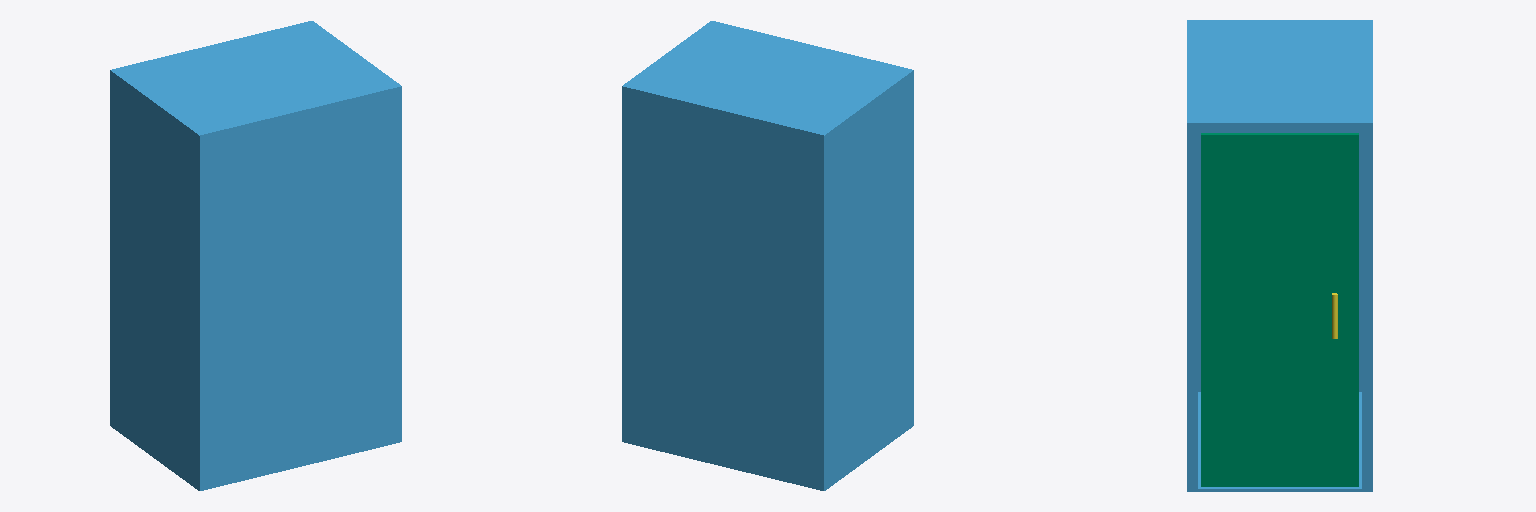
robot.urdf — my_cabinet:
<?xml version="1.0" ?>
<robot name="my_cabinet">
	<link name="world"/>
	<joint name="virtual_joint" type="fixed">
		<parent link="world"/>
		<child link="base_cabinet_link"/>
		<origin xyz="0.0 0.0 0.0" rpy="0.0 0.0 0.0"/>
	</joint>
	<link name="base_cabinet_link">
		<visual>
			<origin xyz="0.0 0.0 -0.3267971206710246" rpy="0.0 0.0 0.0"/>
			<geometry>
				<box size="0.4 0.30681748888788357 0.004"/>
			</geometry>
		</visual>
		<collision name="base_cabinet_link_collision_0">
			<origin xyz="0.0 0.0 -0.3267971206710246" rpy="0.0 0.0 0.0"/>
			<geometry>
				<box size="0.4 0.30681748888788357 0.004"/>
			</geometry>
		</collision>
		<visual>
			<origin xyz="0.0 0.14440874444394178 0.007" rpy="0.0 0.0 0.0"/>
			<geometry>
				<box size="0.4 0.018 0.6715942413420493"/>
			</geometry>
		</visual>
		<collision name="base_cabinet_link_collision_1">
			<origin xyz="0.0 0.14440874444394178 0.007" rpy="0.0 0.0 0.0"/>
			<geometry>
				<box size="0.4 0.018 0.6715942413420493"/>
			</geometry>
		</collision>
		<visual>
			<origin xyz="0.0 -0.14440874444394178 0.007" rpy="0.0 0.0 0.0"/>
			<geometry>
				<box size="0.4 0.018 0.6715942413420493"/>
			</geometry>
		</visual>
		<collision name="base_cabinet_link_collision_2">
			<origin xyz="0.0 -0.14440874444394178 0.007" rpy="0.0 0.0 0.0"/>
			<geometry>
				<box size="0.4 0.018 0.6715942413420493"/>
			</geometry>
		</collision>
		<visual>
			<origin xyz="0.0 0.0 0.3337971206710246" rpy="0.0 0.0 0.0"/>
			<geometry>
				<box size="0.4 0.30681748888788357 0.018"/>
			</geometry>
		</visual>
		<collision name="base_cabinet_link_collision_3">
			<origin xyz="0.0 0.0 0.3337971206710246" rpy="0.0 0.0 0.0"/>
			<geometry>
				<box size="0.4 0.30681748888788357 0.018"/>
			</geometry>
		</collision>
		<visual>
			<origin xyz="-0.191 0.0 0.007" rpy="0.0 0.0 0.0"/>
			<geometry>
				<box size="0.018 0.30681748888788357 0.6715942413420493"/>
			</geometry>
		</visual>
		<collision name="base_cabinet_link_collision_4">
			<origin xyz="-0.191 0.0 0.007" rpy="0.0 0.0 0.0"/>
			<geometry>
				<box size="0.018 0.30681748888788357 0.6715942413420493"/>
			</geometry>
		</collision>
		<inertial>
			<mass value="0.200000"/>
			<inertia ixx="0.009086" ixy="0.0" ixz="0.0" iyy="0.010184" iyz="0.0" izz="0.004236"/>
		</inertial>
	</link>
	<link name="door_link">
		<visual>
			<origin xyz="0.0 -0.1204087444439418 0.0"/>
			<geometry>
				<box size="0.018 0.2608174888878836 0.6395942413420492"/>
			</geometry>
		</visual>
		<collision name="door_link_collision">
			<origin xyz="0.0 -0.1204087444439418 0.0"/>
			<geometry>
				<box size="0.018 0.2608174888878836 0.6395942413420492"/>
			</geometry>
		</collision>
		<inertial>
			<mass value="0.200000"/>
			<inertia ixx="0.007952" ixy="0.0" ixz="0.0" iyy="0.006823" iyz="0.0" izz="0.001139"/>
		</inertial>
	</link>
	<joint name="door_joint" type="revolute">
		<origin xyz="0.191 -0.1204087444439418 0.0" rpy="0.000000 -0.000000 3.141593"/>
		<axis xyz="0 0 1"/>
		<parent link="base_cabinet_link"/>
		<child link="door_link"/>
		<limit effort="50" lower="0" upper="-1.5707963267948966" velocity="10"/>
		<dynamics friction="1.0"/>
	</joint>
	<link name="handle_link">
		<visual>
			<origin xyz="0.0 0.0 0.0" rpy="0.0 0.0 0.0"/>
			<geometry>
				<cylinder length="0.08" radius="0.005"/>
			</geometry>
		</visual>
		<collision name="handle_link_collision_0">
			<origin xyz="0.0 0.0 0.0" rpy="0.0 0.0 0.0"/>
			<geometry>
				<cylinder length="0.08" radius="0.005"/>
			</geometry>
		</collision>
		<visual>
			<origin xyz="-0.01 0.0 0.02" rpy="0.0 1.5707963267948966 0.0"/>
			<geometry>
				<cylinder length="0.02" radius="0.003"/>
			</geometry>
		</visual>
		<collision name="handle_link_collision_1">
			<origin xyz="-0.01 0.0 0.02" rpy="0.0 1.5707963267948966 0.0"/>
			<geometry>
				<cylinder length="0.01" radius="0.003"/>
			</geometry>
		</collision>
		<visual>
			<origin xyz="-0.01 0.0 -0.02" rpy="0.0 1.5707963267948966 0.0"/>
			<geometry>
				<cylinder length="0.02" radius="0.003"/>
			</geometry>
		</visual>
		<collision name="handle_link_collision_2">
			<origin xyz="-0.01 0.0 -0.02" rpy="0.0 1.5707963267948966 0.0"/>
			<geometry>
				<cylinder length="0.02" radius="0.003"/>
			</geometry>
		</collision>
		<inertial>
			<mass value="0.050000"/>
			<inertia ixx="0.000027" ixy="0.0" ixz="0.0" iyy="0.000029" iyz="0.0" izz="0.000003"/>
		</inertial>
	</link>
	<joint name="handle_joint" type="fixed">
		<origin xyz="-0.028999999999999998 -0.2108174888878836 0.0" rpy="0.000000 -0.000000 3.141593"/>
		<parent link="door_link"/>
		<child link="handle_link"/>
	</joint>
	<gazebo reference="base_cabinet_link">
		<sensor name="main_sensor" type="contact">
			<selfCollide>true</selfCollide>
			<alwaysOn>true</alwaysOn>
			<updateRate>5.0</updateRate>
			<material>Gazebo/Red</material>
			<contact>
				<collision>base_cabinet_link_collision_0_collision</collision>
				<collision>base_cabinet_link_collision_1_collision</collision>
				<collision>base_cabinet_link_collision_2_collision</collision>
				<collision>base_cabinet_link_collision_3_collision</collision>
				<collision>base_cabinet_link_collision_4_collision</collision>
			</contact>
			<plugin name="gazebo_ros_bumper_controller" filename="libgazebo_ros_bumper.so">
				<bumperTopicName>/contact</bumperTopicName>
				<frameName>world</frameName>
			</plugin>
		</sensor>
	</gazebo>
	<gazebo reference="door_link">
		<sensor name="main_sensor" type="contact">
			<selfCollide>true</selfCollide>
			<alwaysOn>true</alwaysOn>
			<updateRate>5.0</updateRate>
			<material>Gazebo/Red</material>
			<contact>
				<collision>door_link_collision_collision</collision>
			</contact>
			<plugin name="gazebo_ros_bumper_controller" filename="libgazebo_ros_bumper.so">
				<bumperTopicName>/contact_door</bumperTopicName>
				<frameName>contact_door</frameName>
			</plugin>
		</sensor>
	</gazebo>
</robot>

--- Facts derived from the render (not from the file) ---
The picture shows the robot from 3 angles, left to right: view 1: azimuth 30°, elevation 25°; view 2: azimuth 150°, elevation 25°; view 3: azimuth 270°, elevation 25°; orthographic projection.
Robot: my_cabinet — 4 links, 3 joints (1 revolute, 2 fixed); root link world; default pose: every joint at zero.
Visible links, largest first — view 1: base_cabinet_link; view 2: base_cabinet_link; view 3: door_link, base_cabinet_link.
Link boxes in pixels (x1=…): base_cabinet_link: x1=110, y1=21, x2=401, y2=490; base_cabinet_link: x1=622, y1=21, x2=913, y2=490; door_link: x1=1201, y1=133, x2=1358, y2=486; base_cabinet_link: x1=1187, y1=20, x2=1372, y2=491.
Bounding box of the posed robot: 0.425 × 0.3068 × 0.6716 m (x, y, z).
Geometry: primitives only (box / cylinder / sphere), no mesh files.
